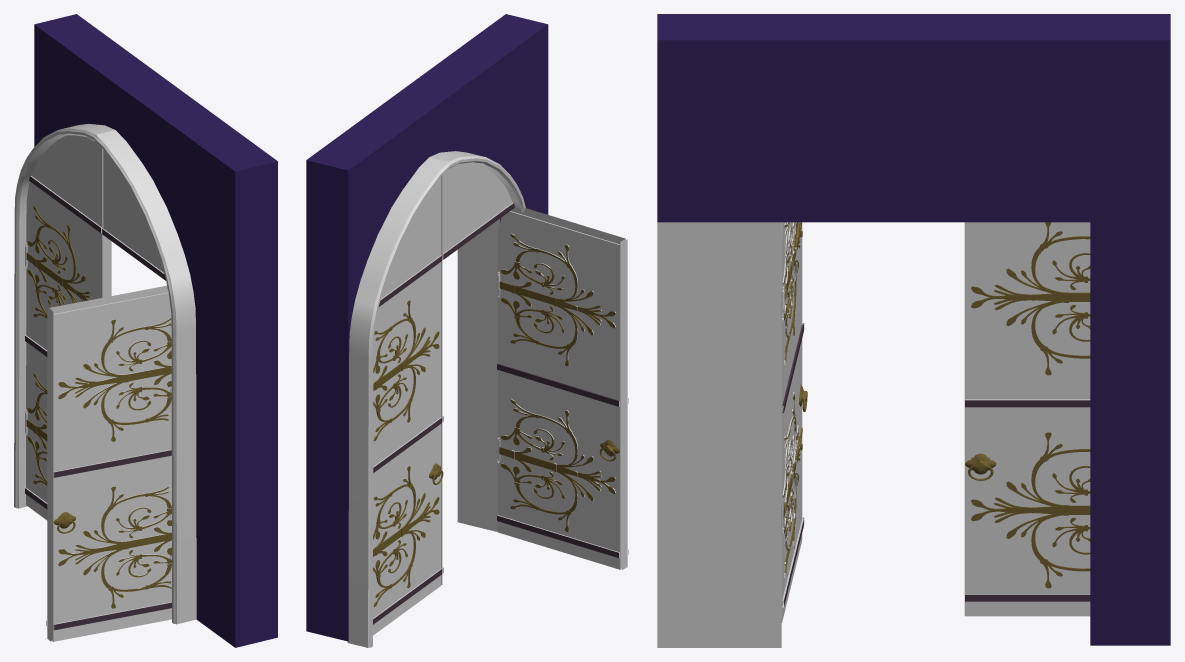
File: HotelTor.fbx
The picture shows the model from 3 angles, left to right: view 1: azimuth 30°, elevation 25°; view 2: azimuth 150°, elevation 25°; view 3: azimuth 270°, elevation 25°; orthographic projection. The views are drawn at different scales.
Visible parts, largest first — view 1: Door; view 2: Door; view 3: Door.
Part boxes in pixels (x1=…): Door: x1=14, y1=14, x2=277, y2=647; Door: x1=306, y1=14, x2=628, y2=647; Door: x1=657, y1=14, x2=1170, y2=647.
Size of the model in its own units: 27.07 by 70.43 by 53.91.
